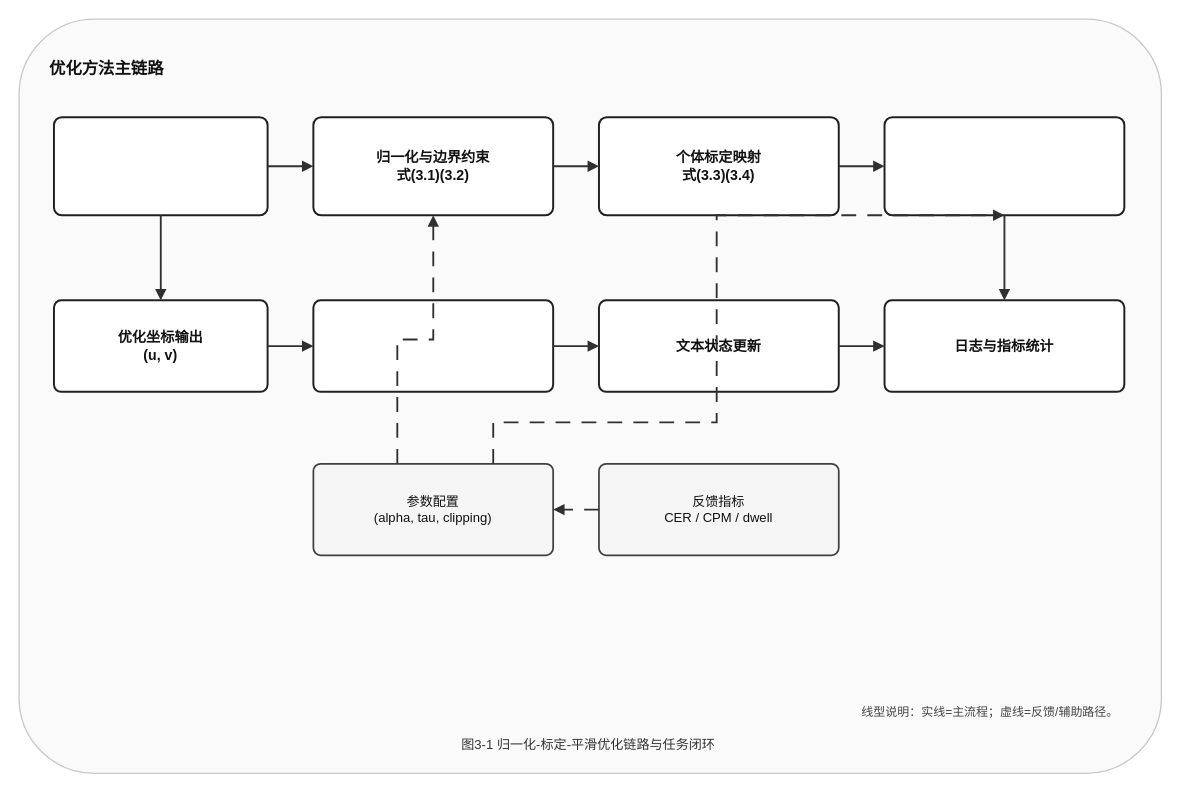
This 1182x794 diagram has some shape labels left out. Each missing label, with the centre of its shape:
原始观测 (t, x, y, pose, conf): the point at 160,166
命中判定 + 停留触发: the point at 433,345
时序平滑 EMA / One-Euro: the point at 1004,166
